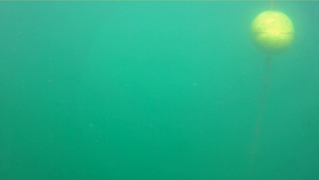buoy: (249, 10, 294, 54)
